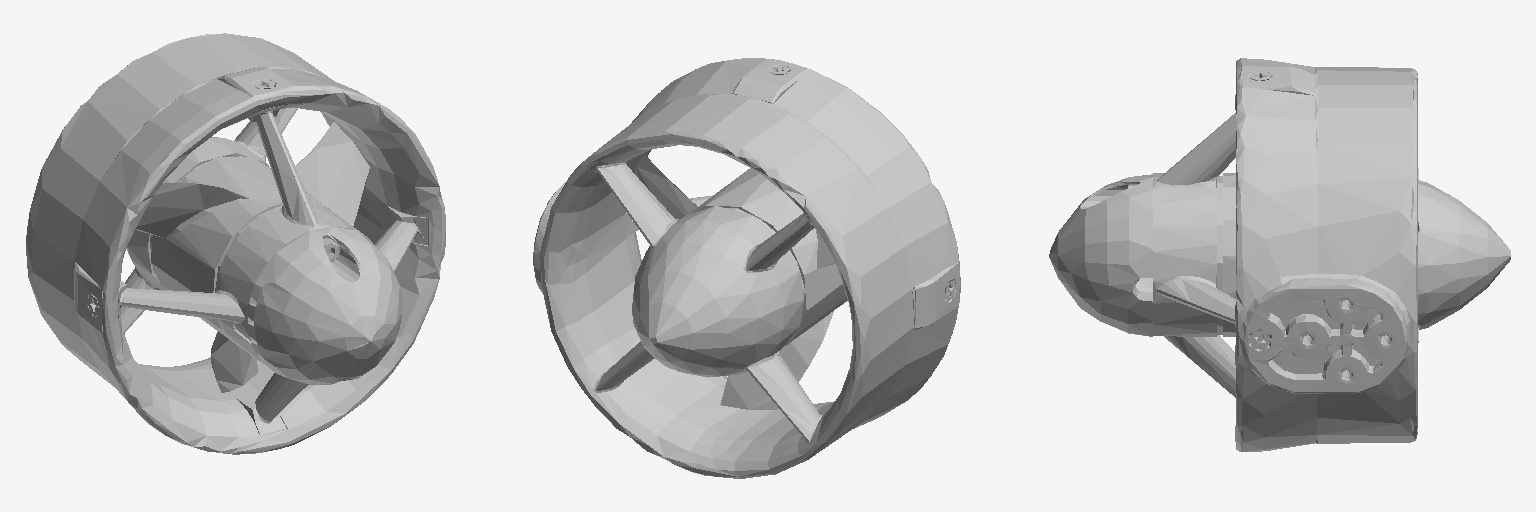
File: thruster_sul.obj
The picture shows the model from 3 angles: view 1: azimuth 30°, elevation 25°; view 2: azimuth 150°, elevation 25°; view 3: azimuth 270°, elevation 25°; orthographic projection.
Bounding box in the file's own units: 0.0973 × 0.0966 × 0.1127.